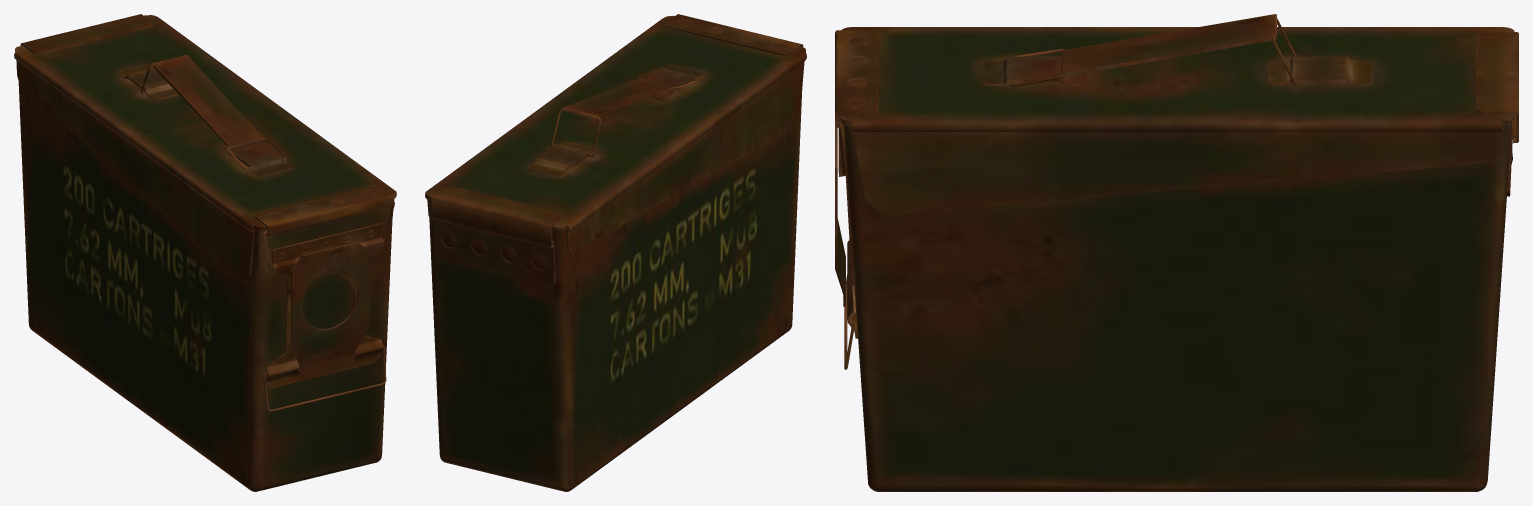
Rendered from ammo_box.glb.
3 renders of one model, left to right at view 1: azimuth 30°, elevation 25°; view 2: azimuth 150°, elevation 25°; view 3: azimuth 270°, elevation 25°, orthographic. The views are drawn at different scales.
Parts seen in each view (by area): view 1: ammo_box_handle_ring_b; view 2: ammo_box_handle_ring_b; view 3: ammo_box_handle_ring_b.
Boxes of the visible parts, x1,y1,x2,y2 form: ammo_box_handle_ring_b: [14, 14, 396, 491]; ammo_box_handle_ring_b: [425, 14, 806, 491]; ammo_box_handle_ring_b: [835, 14, 1518, 491].
Size of the model in its own units: 0.0865 by 0.1775 by 0.2578.
Materials: 1 (1 with a texture image).
